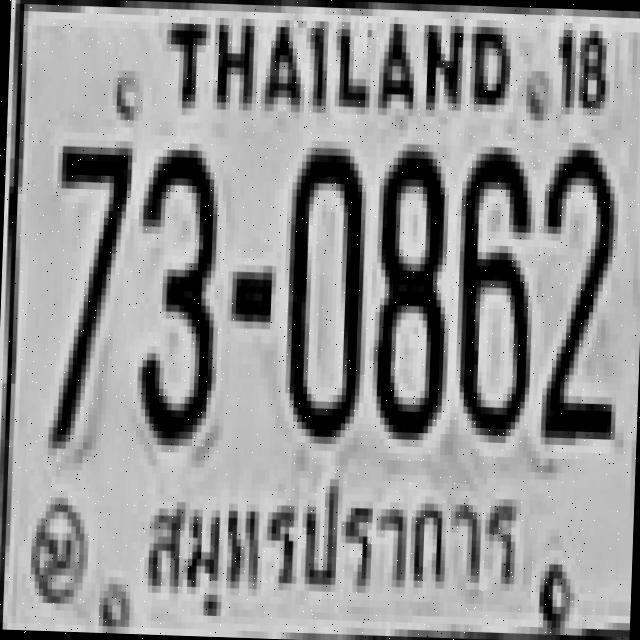0: (279, 140, 363, 438)
2: (534, 142, 618, 440)
3: (133, 142, 217, 440)
6: (449, 142, 533, 433)
7: (44, 138, 128, 444)
8: (370, 142, 446, 434)
SamutPrakan: (132, 466, 536, 613)
